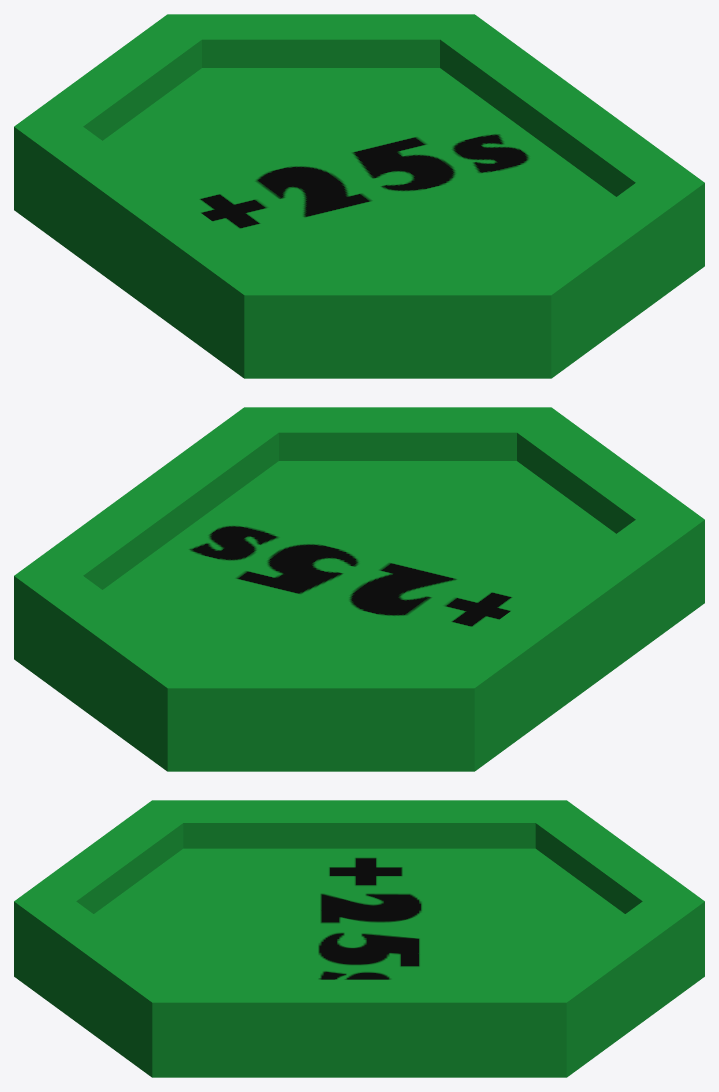
File: time_piece_25s.fbx
3 views of the same model, one above another, from view 1: azimuth 30°, elevation 25°; view 2: azimuth 150°, elevation 25°; view 3: azimuth 270°, elevation 25° (orthographic). The views are drawn at different scales.
Parts seen in each view (by area): view 1: Cylinder; view 2: Cylinder; view 3: Cylinder.
Part boxes in pixels (<box>): Cylinder: <box>14,14,704,378</box>; Cylinder: <box>14,407,704,771</box>; Cylinder: <box>14,800,704,1077</box>.
Size of the model in its own units: 173 by 30 by 250.
